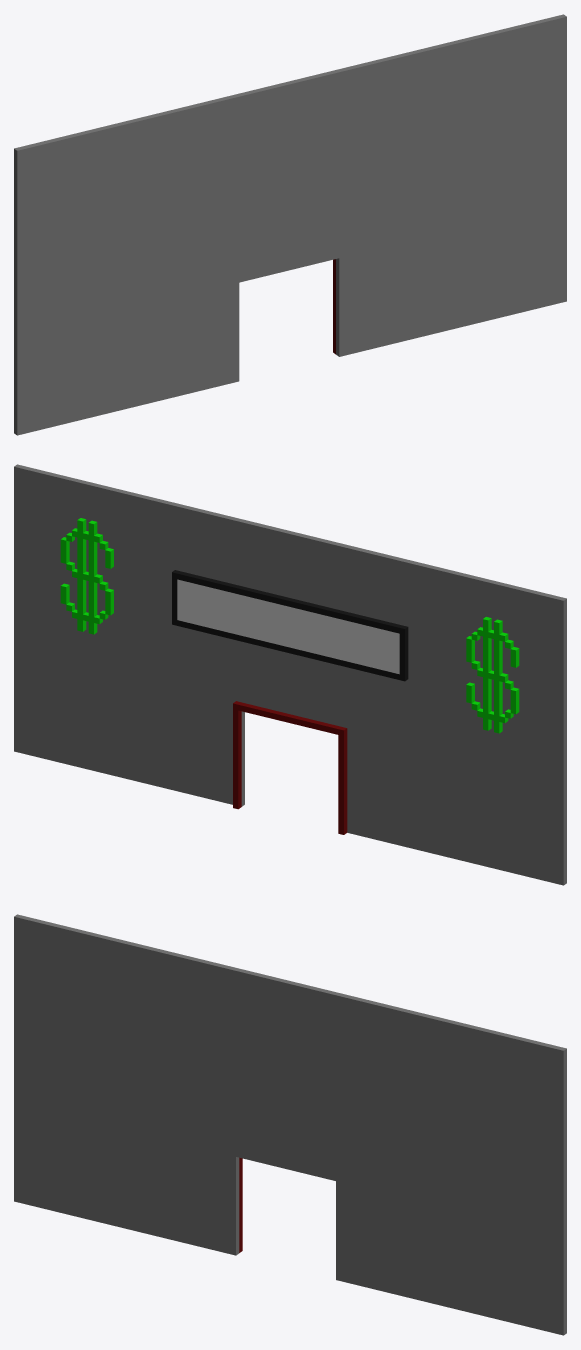
File: Bank-3.obj
3 renders of one model, top to bottom at view 1: azimuth 30°, elevation 25°; view 2: azimuth 150°, elevation 25°; view 3: azimuth 330°, elevation 25°, orthographic.
Visible parts, largest first — view 1: Bank-3; view 2: Bank-3; view 3: Bank-3.
Boxes of the visible parts, x1,y1,x2,y2 form: Bank-3: (14,14,566,435); Bank-3: (14,464,566,885); Bank-3: (14,914,566,1335).
Size of the model in its own units: 99 by 49 by 2.
